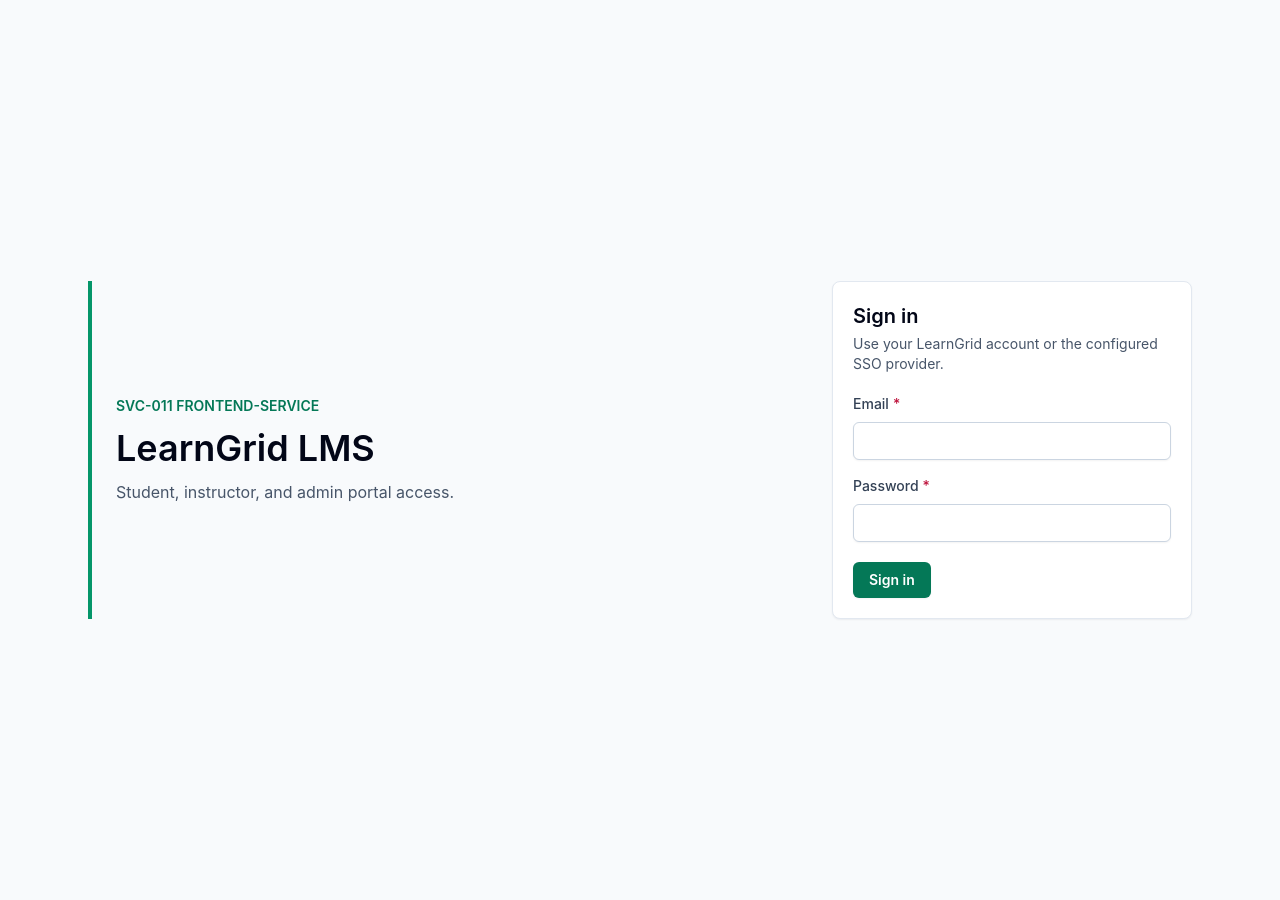
Test: login stores tokens and redirects by role
In the field labelled "Email*": (1012, 441) [853,422,1171,460], type "student@example.com"
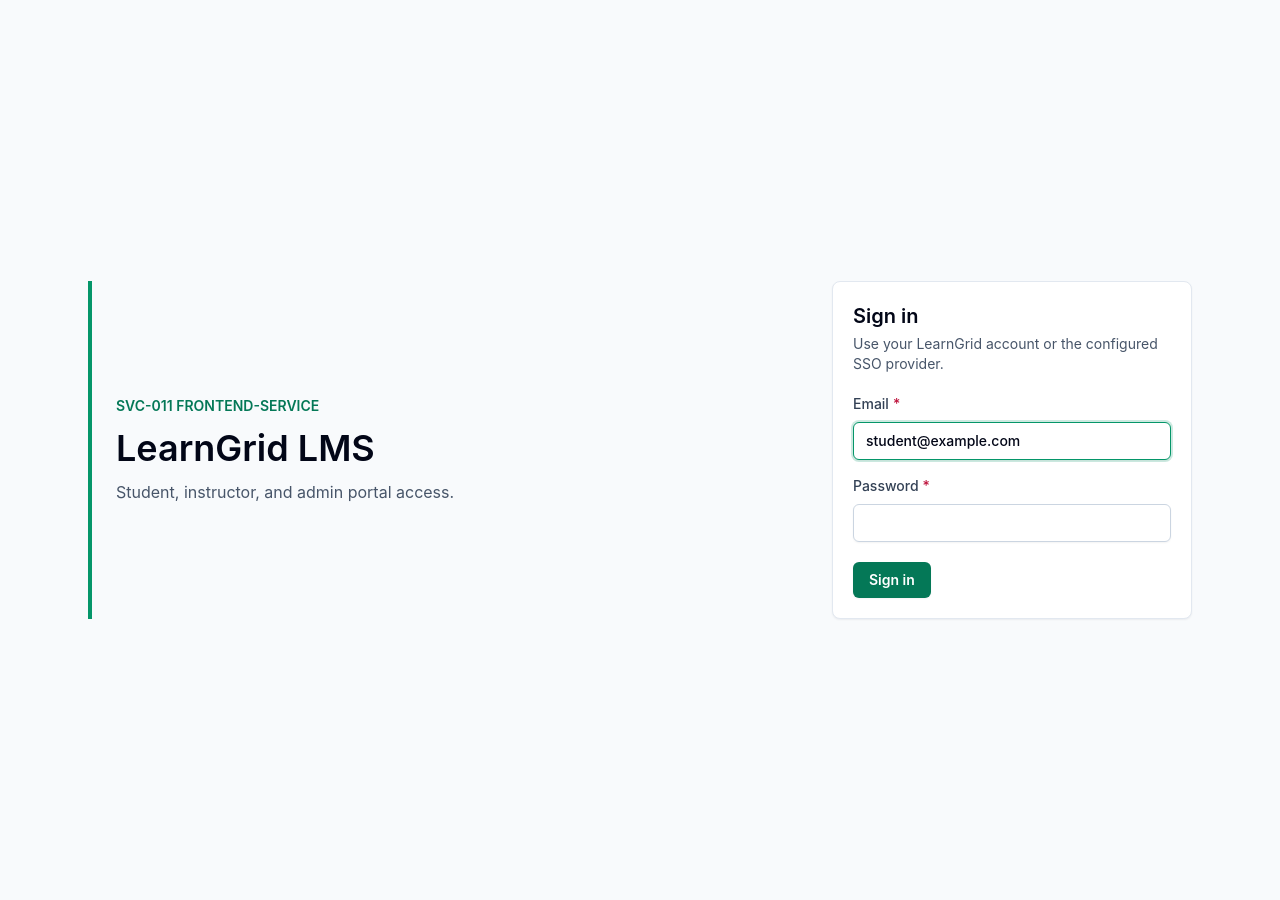
In the password field labelled "Password*": (1012, 523) [853,504,1171,542], type "temporary-pass"
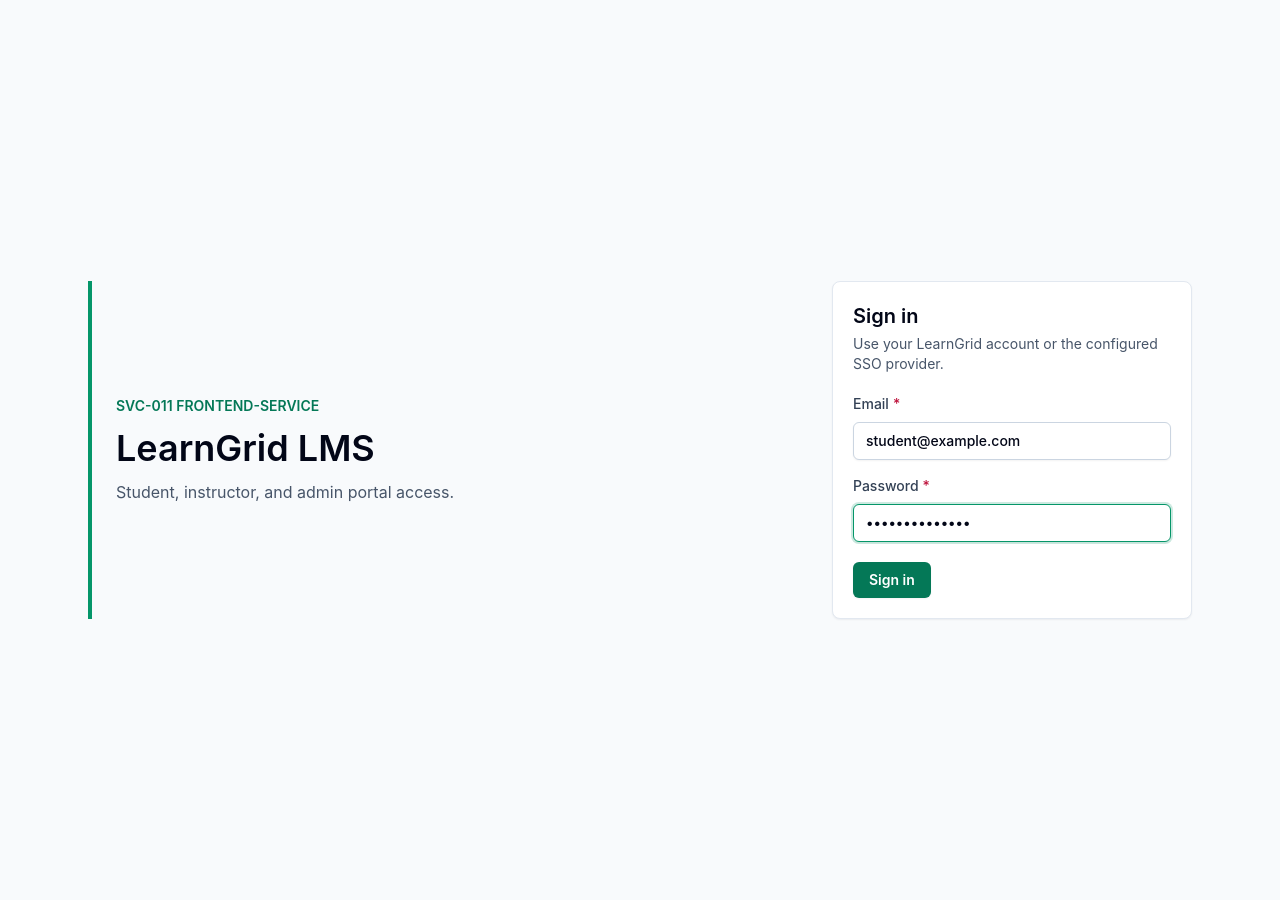
Click the button "Sign in": (892, 580) [853,562,931,598]
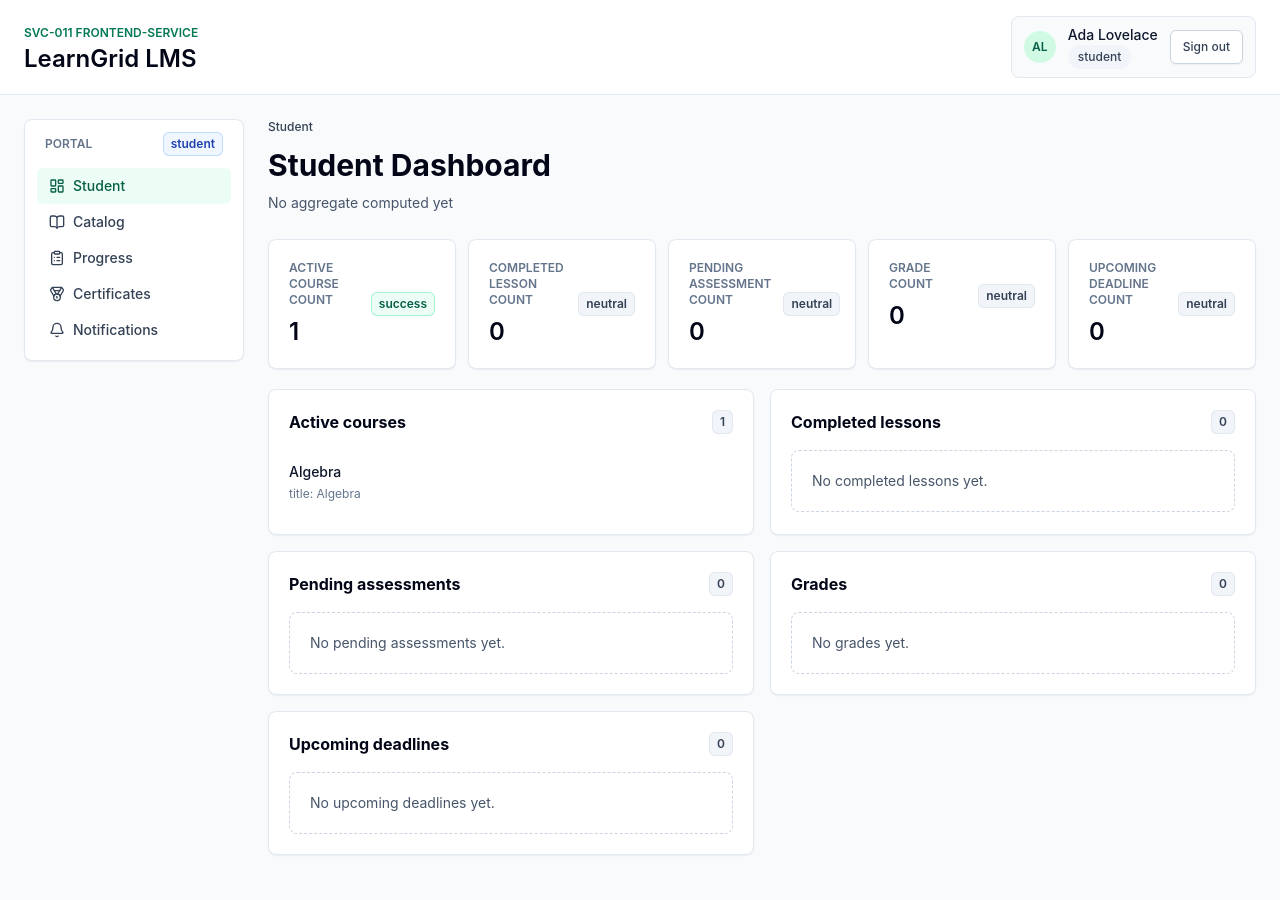
Expected: the heading "Student Dashboard" is shown, [268,147,551,183]
